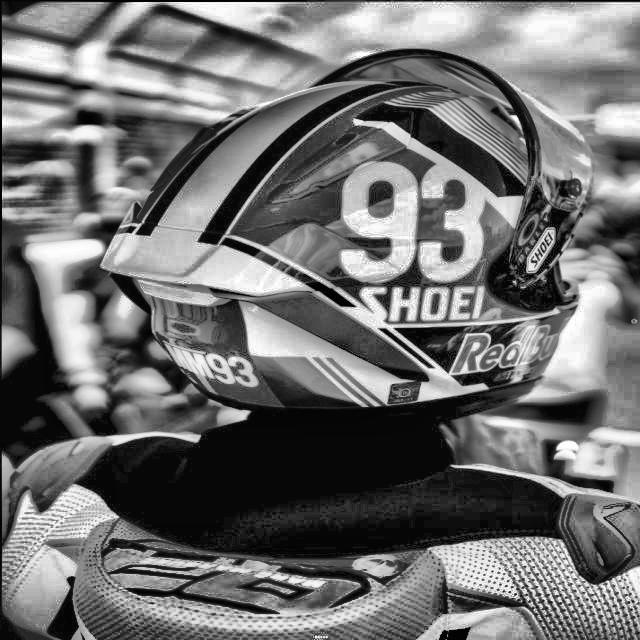Helmet: (94, 42, 601, 429)
